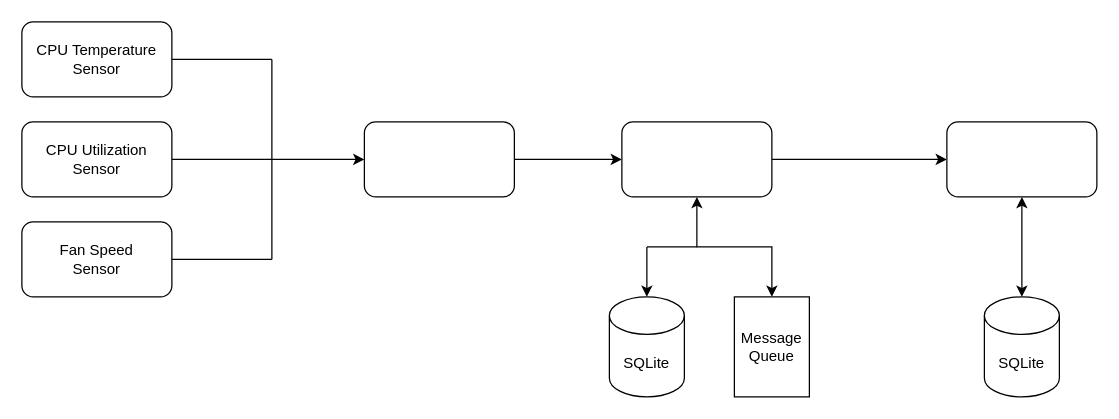
This 1119x419 diagram has some shape labels left out. Each missing label, with the centre of its shape:
"Cloud Component" belongs at (x=1021, y=159).
"Local Component" belongs at (x=696, y=159).
"MQTT Message Broker" belongs at (x=438, y=159).
